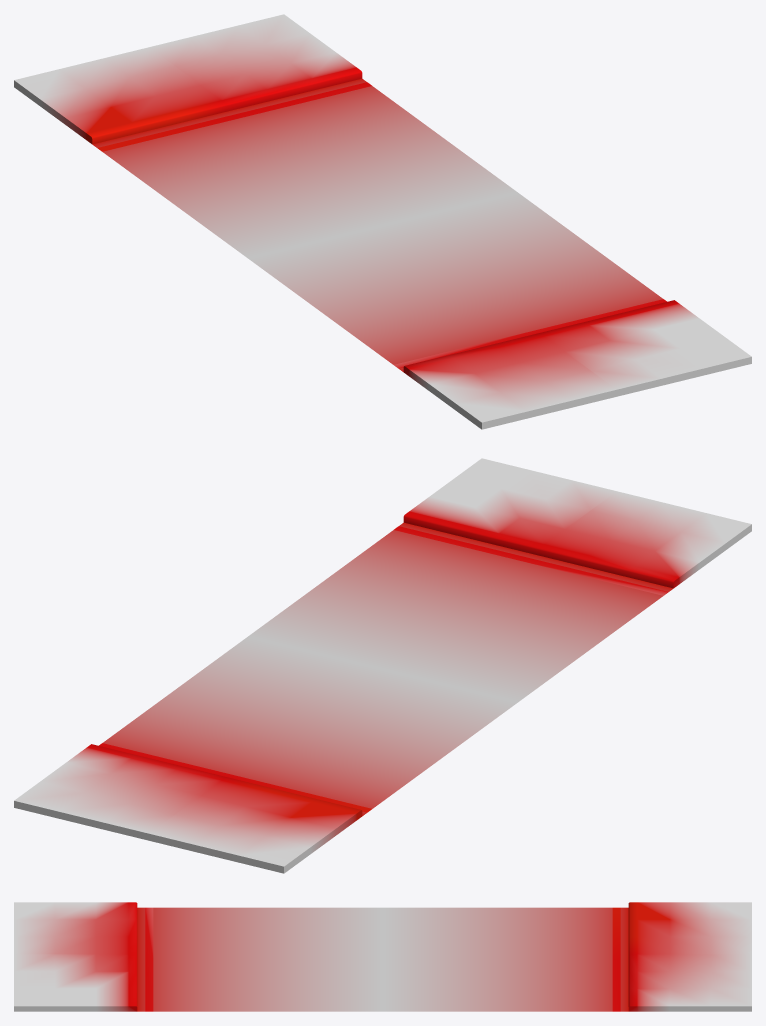
Rendered from Street_4Lane.gltf.
The picture shows the model from 3 angles, top to bottom: view 1: azimuth 30°, elevation 25°; view 2: azimuth 150°, elevation 25°; view 3: azimuth 270°, elevation 25°; orthographic projection. The views are drawn at different scales.
Visible parts, largest first — view 1: Street_4Lane; view 2: Street_4Lane; view 3: Street_4Lane.
Boxes of the visible parts, x1,y1,x2,y2 form: Street_4Lane: (14,14,751,429); Street_4Lane: (14,458,751,873); Street_4Lane: (14,902,751,1011).
Size of the model in its own units: 6 by 0.15 by 18.
